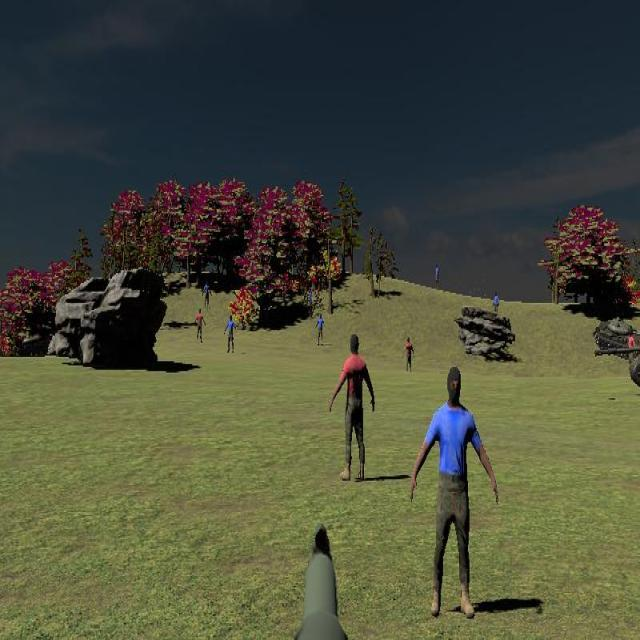Human: (410, 364, 500, 617), (329, 333, 376, 482), (224, 314, 238, 354)
Tank: (596, 333, 640, 396), (593, 317, 640, 355)
